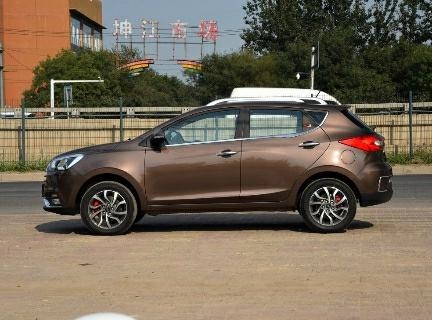car: (35, 87, 400, 244)
